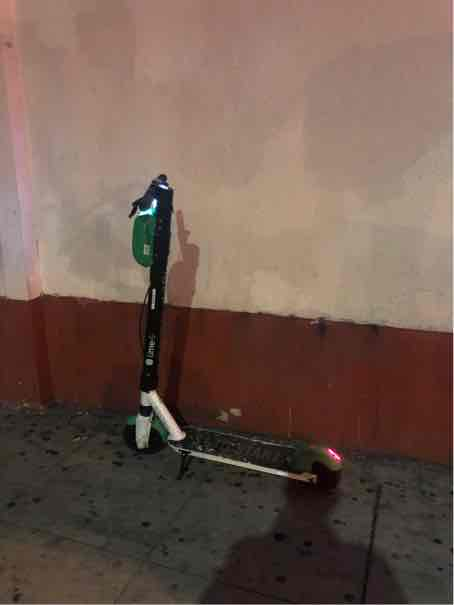scooter: (109, 156, 355, 507)
